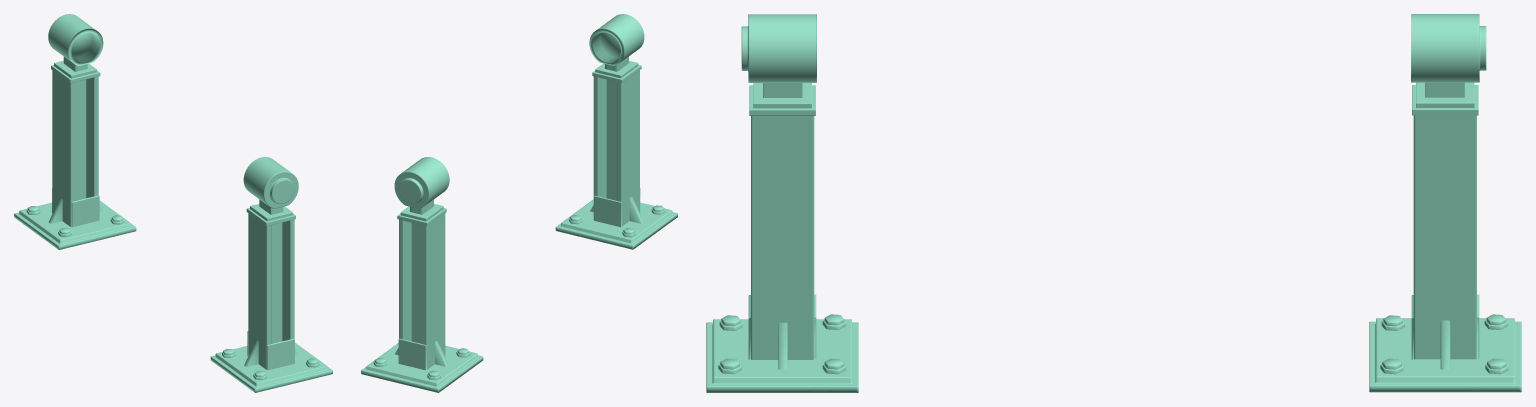
Rendered from Solar_Battery_Holder01_01.fbx.
The picture shows the model from 3 angles, left to right: view 1: azimuth 30°, elevation 25°; view 2: azimuth 150°, elevation 25°; view 3: azimuth 270°, elevation 25°; orthographic projection. The views are drawn at different scales.
Parts seen in each view (by area): view 1: SM_Solar_Battery_Holder01_01; view 2: SM_Solar_Battery_Holder01_01; view 3: SM_Solar_Battery_Holder01_01.
Part boxes in pixels (x1,y1,x2,y2): SM_Solar_Battery_Holder01_01: (14,14,332,392); SM_Solar_Battery_Holder01_01: (361,14,677,392); SM_Solar_Battery_Holder01_01: (706,14,1521,392).
Size of the model in its own units: 0.2846 by 0.7001 by 1.51.
